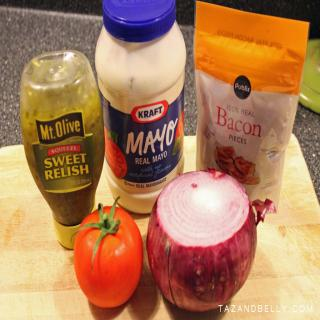tomato: (70, 192, 144, 306)
